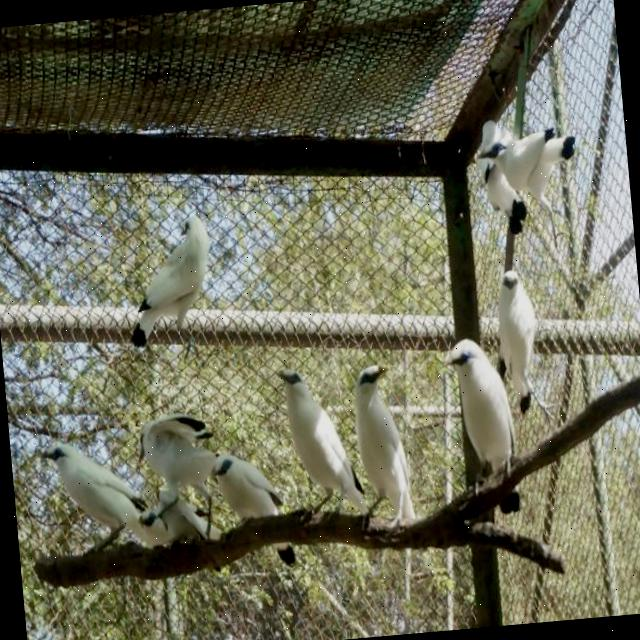Jalak Bali: (111, 195, 236, 385), (262, 336, 370, 555), (339, 346, 427, 552), (432, 322, 526, 513), (36, 431, 154, 566), (466, 104, 582, 240), (479, 252, 559, 420), (118, 397, 225, 503), (206, 436, 290, 538), (132, 485, 224, 555)
